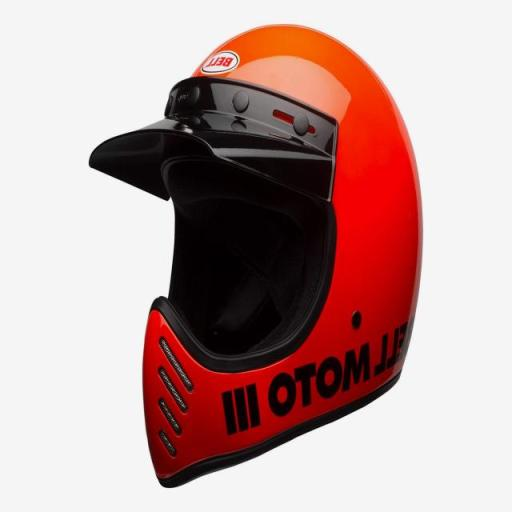Helmet: (90, 25, 422, 486)
